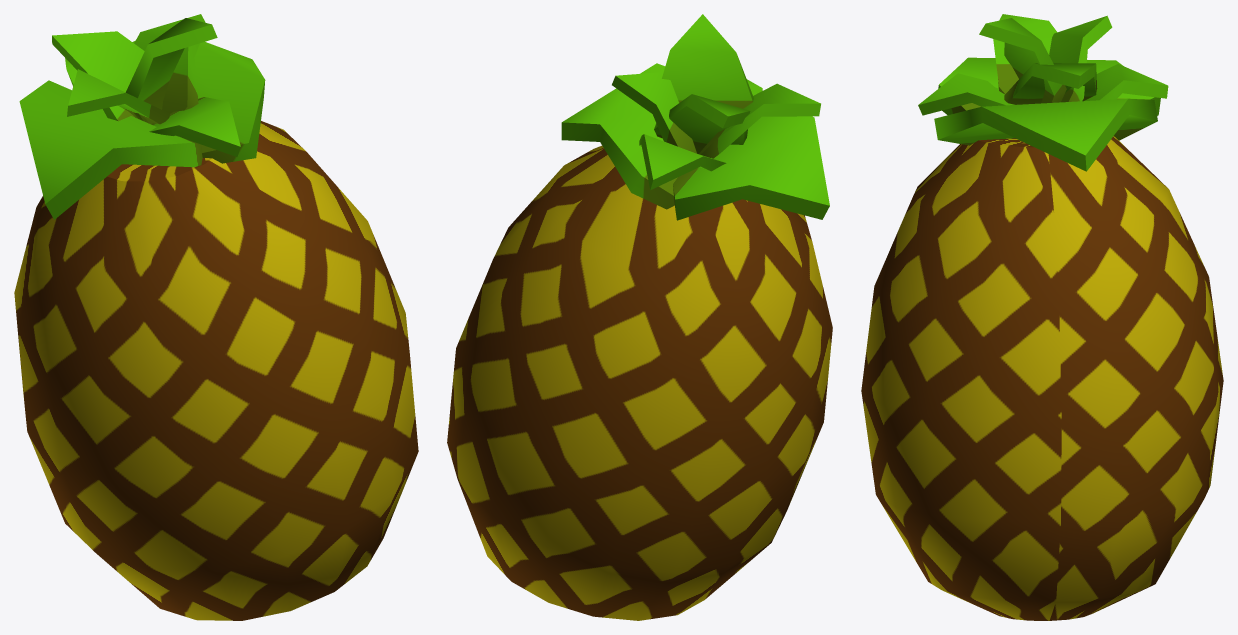
Rendered from ITMC_Pinya.FBX.
3 views of the same model, side by side, from view 1: azimuth 30°, elevation 25°; view 2: azimuth 150°, elevation 25°; view 3: azimuth 270°, elevation 25° (orthographic). The views are drawn at different scales.
Visible parts, largest first — view 1: ITMC_Pinya; view 2: ITMC_Pinya; view 3: ITMC_Pinya.
Boxes of the visible parts, bbox=[...] form: ITMC_Pinya: bbox=[14, 14, 418, 620]; ITMC_Pinya: bbox=[447, 14, 832, 620]; ITMC_Pinya: bbox=[861, 14, 1223, 620].
Bounding box in the file's own units: 0.6997 × 1.12 × 0.6597.
